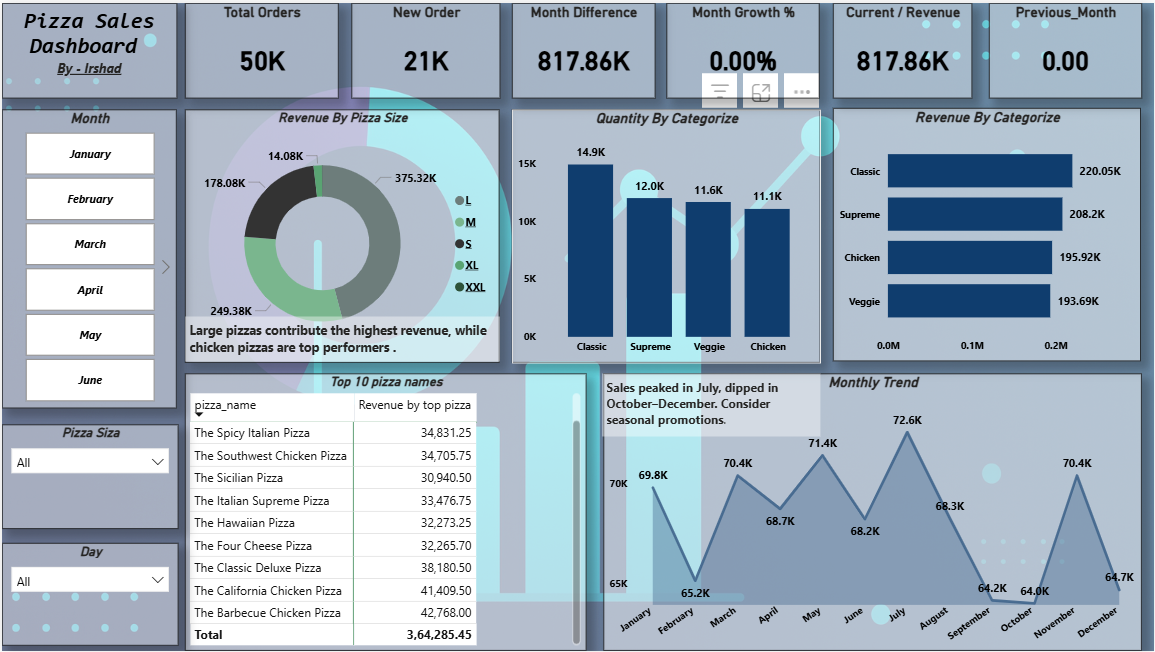

The page's visual inventory and layout, read from the dashboard file:
{"tool":"powerbi","page":{"name":"Dashboard","canvas":[1280,720],"ordinal":0},"visuals":[{"type":"lineChart","title":"Monthly Trend ","fields":{"Category":["Date.Date.Variation.Date Hierarchy.Month"],"Y":["Sum(public pizzaa.total_price)"]},"box":[667.6,412.5,598,308.1],"z":0},{"type":"clusteredBarChart","title":"Revenue By Categorize ","fields":{"Category":["public pizzaa.pizza_category"],"Y":["Sum(public pizzaa.total_price)"]},"box":[924.1,117.2,342,281.6],"z":1000},{"type":"columnChart","title":"Quantity By Categorize","fields":{"Category":["public pizzaa.pizza_category"],"Y":["Sum(public pizzaa.quantity)"]},"box":[566.5,117.6,342.9,281.6],"z":2000},{"type":"donutChart","title":"Revenue By Pizza Size","fields":{"Category":["public pizzaa.pizza_size"],"Y":["public pizzaa.Revenue"]},"box":[203.7,117.6,349.5,281.6],"z":3000},{"type":"pivotTable","title":"Top 10 pizza names","fields":{"Values":["Sum(public pizzaa.total_price)"],"Rows":["public pizzaa.pizza_name"]},"box":[204.1,412,446,308],"z":4000},{"type":"card","title":"Previous_Month","fields":{"Values":["public pizzaa.Previous_month"]},"box":[1096.1,0,170.1,105.8],"z":5000},{"type":"card","title":"Current / Revenue","fields":{"Values":["public pizzaa.Revenue"]},"box":[924.1,0,155,105.8],"z":6000},{"type":"card","title":"Month Growth %","fields":{"Values":["public pizzaa.MoM Growth %"]},"box":[738.9,0,170.1,105.8],"z":7000},{"type":"card","title":"New Order","fields":{"Values":["public pizzaa.order_count"]},"box":[387.6,0,165.6,106],"z":8000},{"type":"card","title":"Month Difference ","fields":{"Values":["public pizzaa.MoM Growth"]},"box":[566.5,0,159,106],"z":9000},{"type":"card","title":"Total Orders","fields":{"Values":["Sum(public pizzaa.quantity)"]},"box":[203.7,0,170.6,106],"z":10000},{"type":"textbox","box":[0,0,194.6,105.8],"z":11000},{"type":"slicer","title":"Month","fields":{"Values":["Date.Date.Variation.Date Hierarchy.Month"]},"box":[0,118,194,332],"z":12000},{"type":"slicer","title":"Pizza Siza","fields":{"Values":["public pizzaa.pizza_size"]},"box":[0,468,196,116],"z":13000},{"type":"slicer","title":"Day","fields":{"Values":["Date.Date.Variation.Date Hierarchy.Day"]},"box":[0,600,196,114],"z":14000},{"type":"textbox","box":[203.3,348.3,350,50],"z":15000},{"type":"textbox","box":[666.9,411.5,242.4,69.9],"z":16000}]}

Visuals, with their boxes in screenshot pixels (x1, y1, x2, y2), scaled from the page's 1280x720 canvas onto the 1155x652 screenshot:
"Monthly Trend " lineChart: detection(602, 374, 1142, 651)
"Revenue By Categorize " clusteredBarChart: detection(834, 106, 1142, 361)
"Quantity By Categorize" columnChart: detection(511, 106, 821, 361)
"Revenue By Pizza Size" donutChart: detection(184, 106, 499, 361)
"Top 10 pizza names" pivotTable: detection(184, 373, 587, 651)
"Previous_Month" card: detection(989, 0, 1143, 96)
"Current / Revenue" card: detection(834, 0, 974, 96)
"Month Growth %" card: detection(667, 0, 820, 96)
"New Order" card: detection(350, 0, 499, 96)
"Month Difference " card: detection(511, 0, 655, 96)
"Total Orders" card: detection(184, 0, 338, 96)
textbox: detection(0, 0, 176, 96)
"Month" slicer: detection(0, 107, 175, 408)
"Pizza Siza" slicer: detection(0, 424, 177, 529)
"Day" slicer: detection(0, 543, 177, 647)
textbox: detection(183, 315, 499, 361)
textbox: detection(602, 373, 821, 436)
